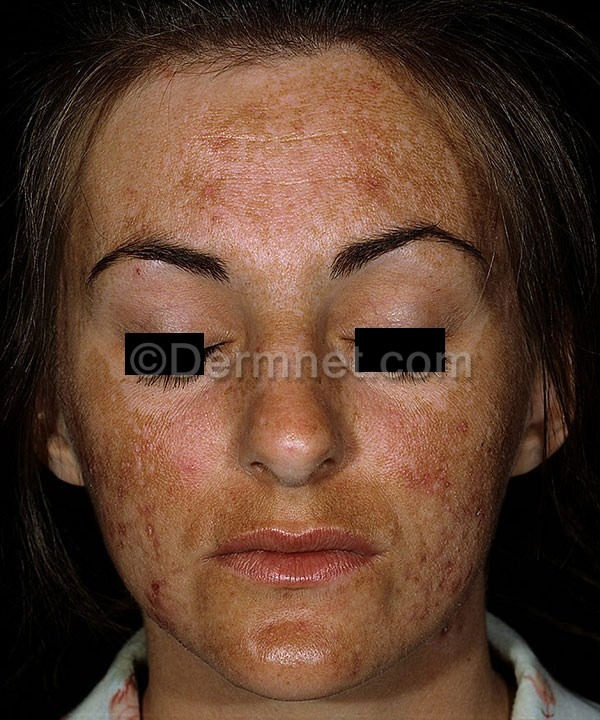Melasma: (193, 94, 422, 226), (391, 408, 490, 628), (97, 410, 193, 624), (227, 603, 367, 704)
